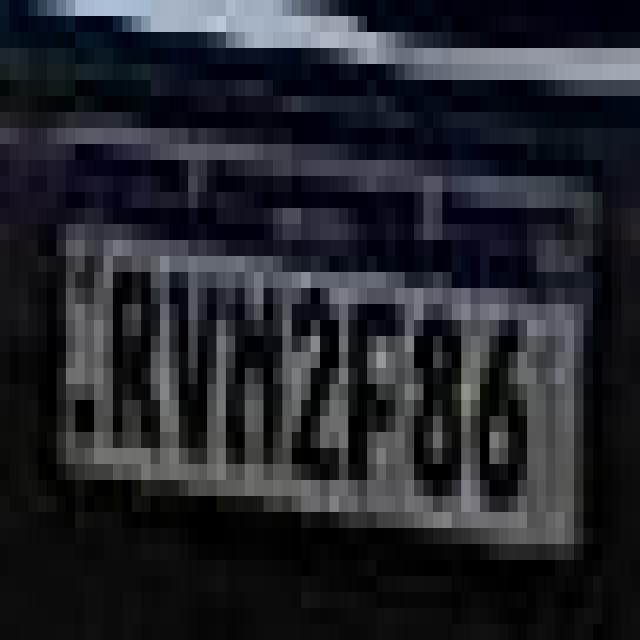6: (471, 302, 533, 516)
8: (407, 302, 467, 506)
F: (348, 289, 406, 497)
M: (222, 268, 284, 476)
R: (100, 254, 164, 466)
V: (163, 266, 217, 468)
